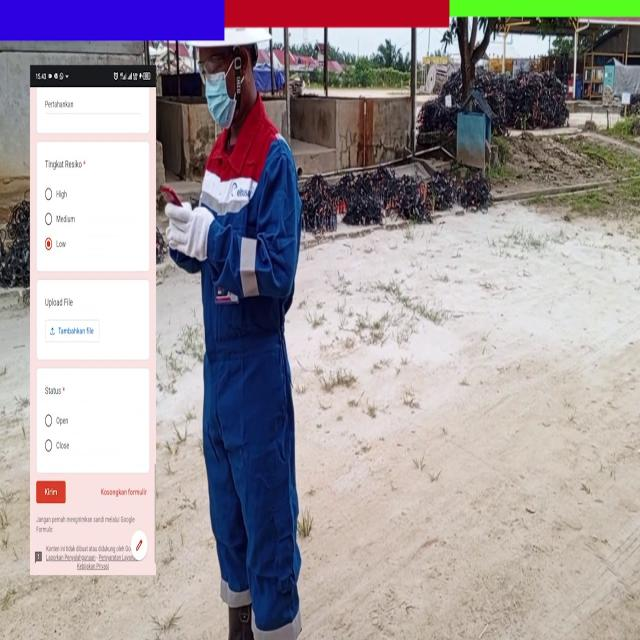Gloves: (165, 204, 211, 258)
Mask: (204, 74, 238, 128)
Overall Suit: (200, 112, 302, 639)
Safety Boots: (226, 607, 255, 640)
